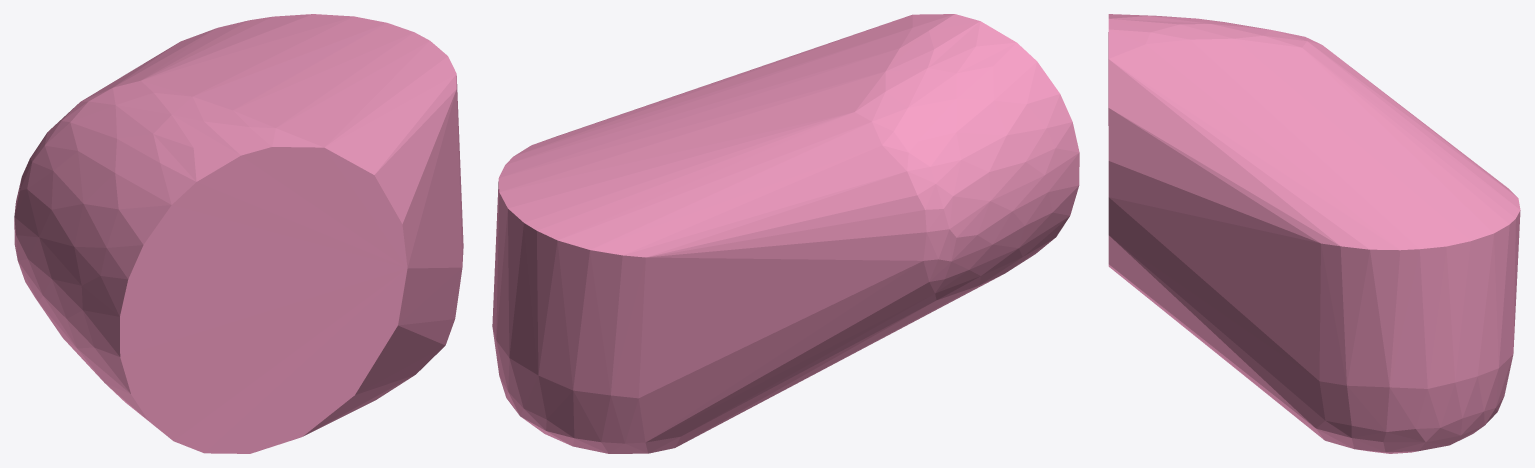
The model's file is dualpanda_Panda_leftArm_link4_respondable_coll_1.dae.
3 renders of one model, left to right at view 1: azimuth 30°, elevation 25°; view 2: azimuth 150°, elevation 25°; view 3: azimuth 270°, elevation 25°, orthographic. The views are drawn at different scales.
Visible parts, largest first — view 1: node; view 2: node; view 3: node.
Part boxes in pixels (x1,y1,x2,y2): node: [14, 14, 463, 453]; node: [492, 14, 1079, 453]; node: [1108, 14, 1520, 453].
Bounding box in the file's own units: 0.1951 × 0.1589 × 0.1793.
